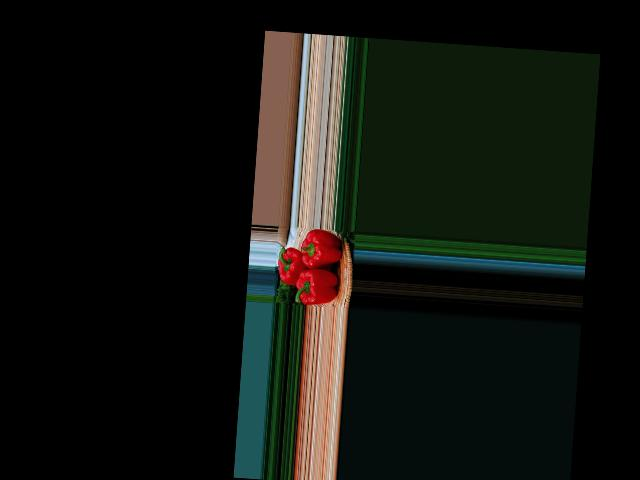bell_pepper: (294, 262, 344, 306)
